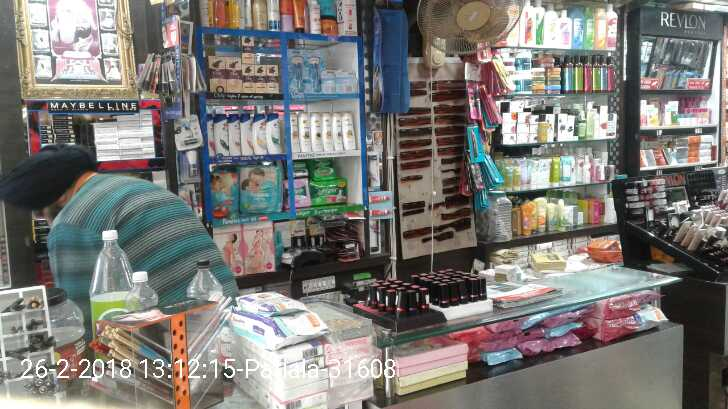venus: (288, 50, 307, 95), (307, 51, 321, 95), (335, 70, 357, 91), (322, 70, 336, 91)
